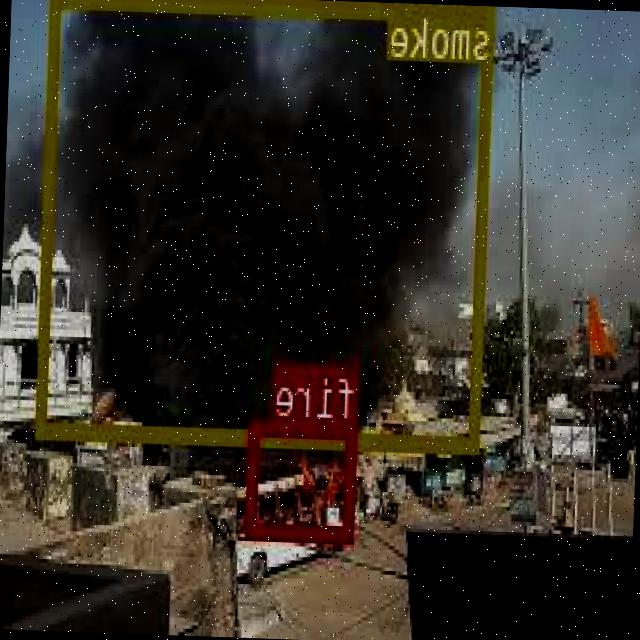fire: (247, 418, 358, 540)
smoke: (38, 0, 496, 451)
